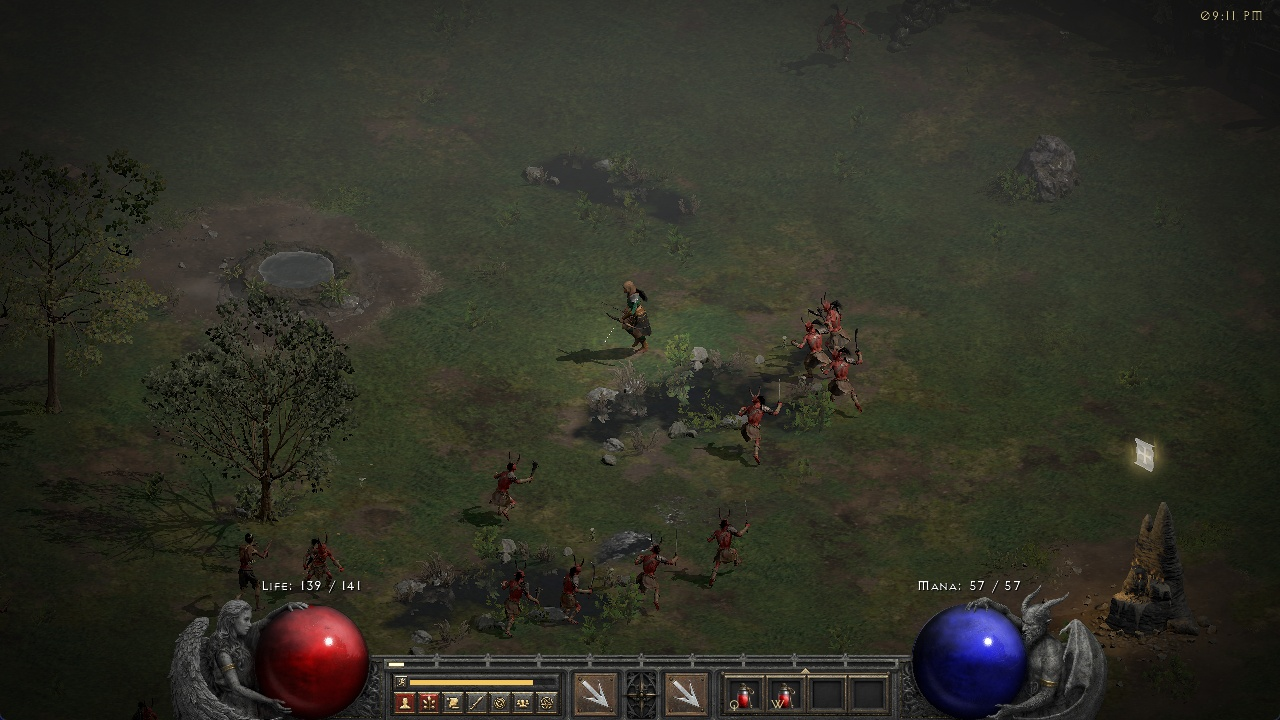fallen: (488, 450, 542, 522), (493, 566, 543, 637), (734, 388, 778, 468), (703, 510, 748, 579), (636, 535, 681, 602), (816, 6, 865, 64), (558, 556, 596, 622), (822, 344, 864, 402), (808, 293, 857, 326), (798, 320, 828, 369), (302, 542, 341, 579)
